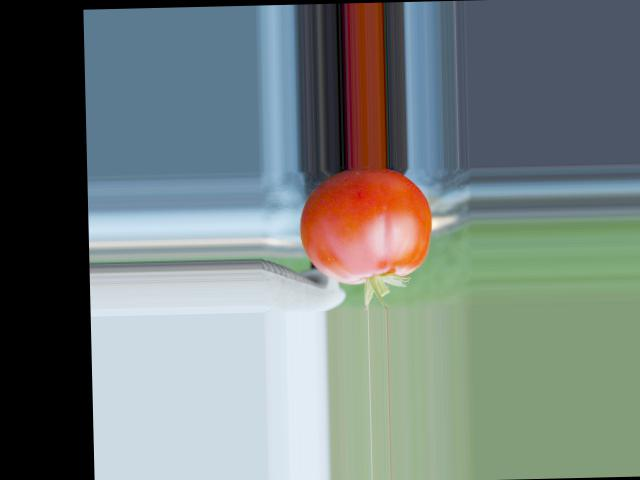tomato: (299, 166, 433, 285)
